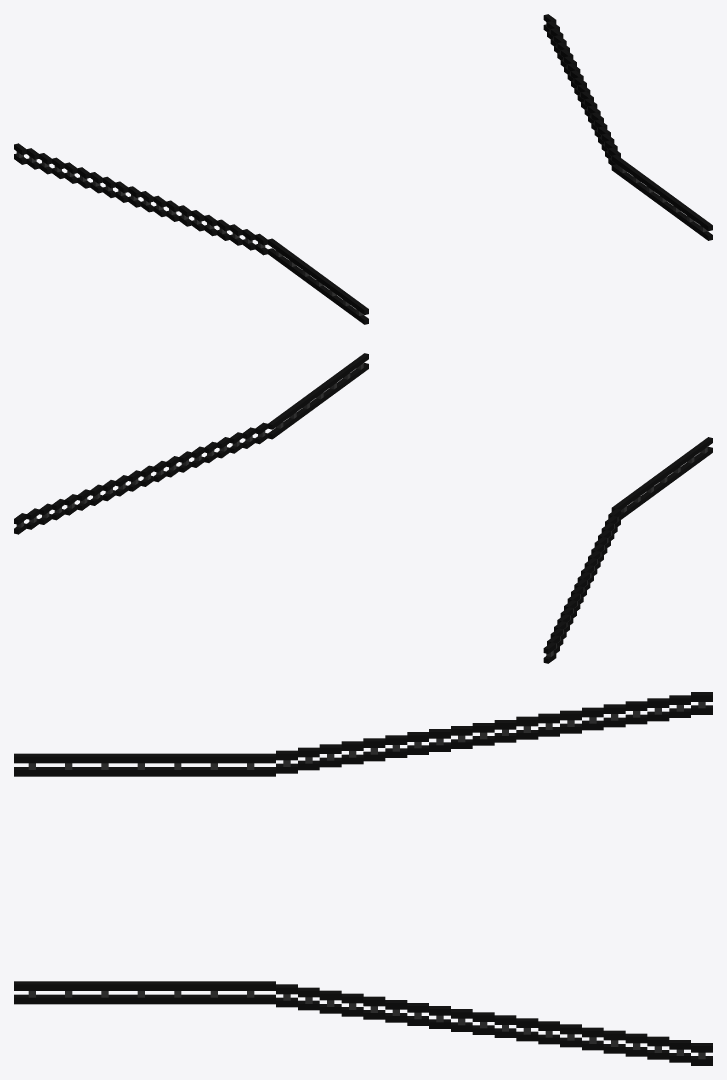
File: Split_0-3.obj
The picture shows the model from 3 angles, top to bottom: view 1: azimuth 30°, elevation 25°; view 2: azimuth 150°, elevation 25°; view 3: azimuth 270°, elevation 25°; orthographic projection. The views are drawn at different scales.
Parts seen in each view (by area): view 1: Split_0-3; view 2: Split_0-3; view 3: Split_0-3.
Boxes of the visible parts, box(x1,y1,x2,y2) form: Split_0-3: box(14, 14, 712, 324); Split_0-3: box(14, 353, 712, 663); Split_0-3: box(14, 692, 712, 1065).
Bounding box in the file's own units: 115 × 3 × 96.
Materials: 1 (1 with a texture image).
